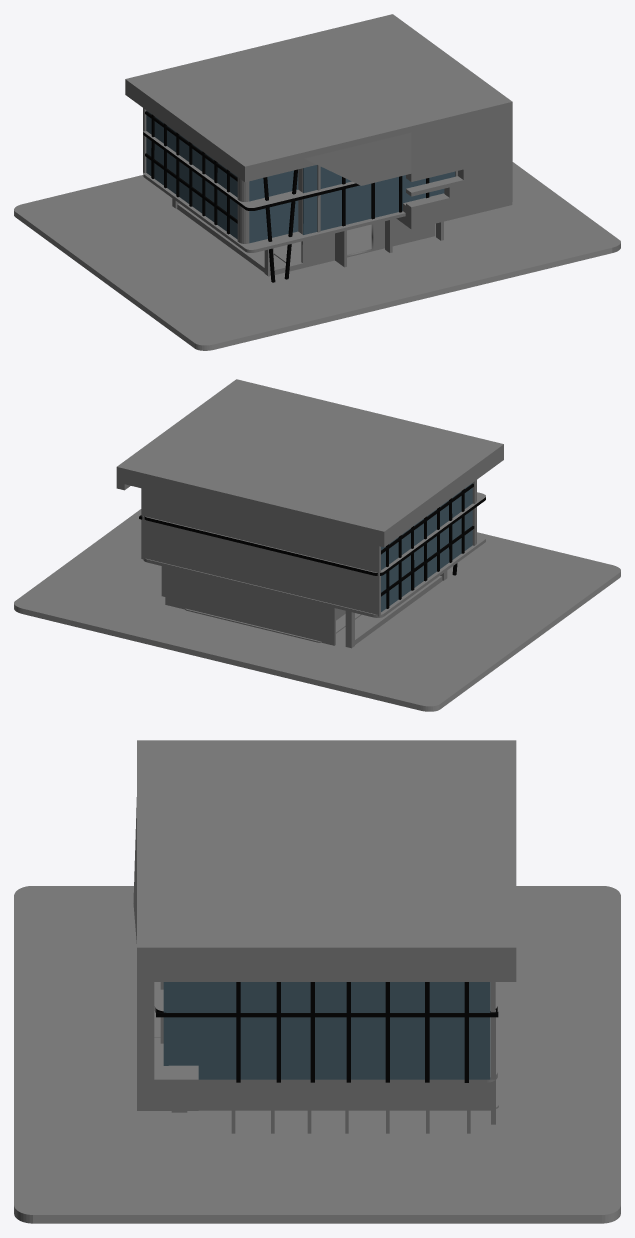
Rendered from logistics_center.glb.
3 views of the same model, one above another, from view 1: azimuth 30°, elevation 25°; view 2: azimuth 150°, elevation 25°; view 3: azimuth 270°, elevation 25° (orthographic). The views are drawn at different scales.
Visible parts, largest first — view 1: Office_Building; view 2: Office_Building; view 3: Office_Building.
Part boxes in pixels (bbox=[...]): Office_Building: bbox=[14, 14, 620, 350]; Office_Building: bbox=[14, 379, 620, 711]; Office_Building: bbox=[14, 740, 620, 1223].
Size of what is drawn, in the model's own units: 79.61 by 28.02 by 62.19.
